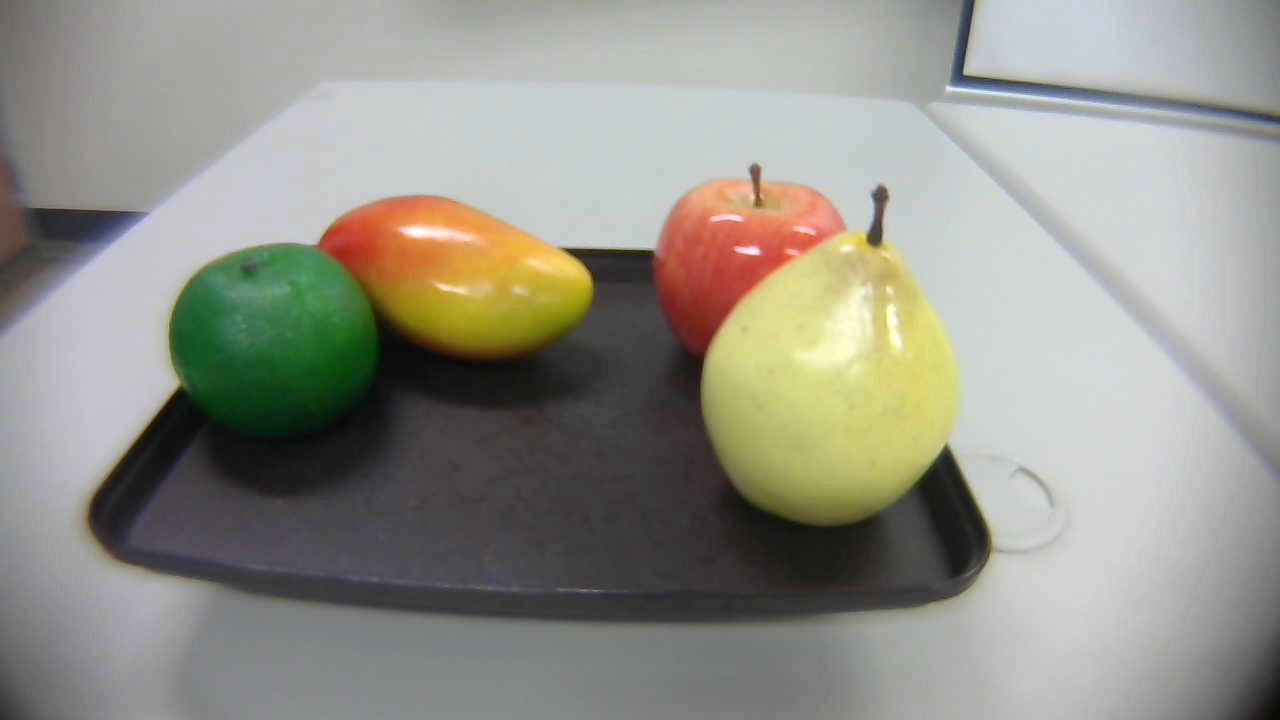green orange: (168, 243, 378, 441)
red apple: (645, 163, 860, 359)
red mango: (308, 178, 600, 383)
western pear: (693, 184, 962, 523)
